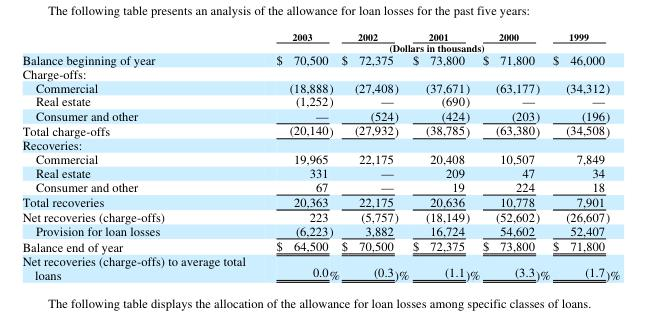table: (21, 29, 619, 282)
table column: (21, 29, 260, 282), (260, 29, 339, 282), (339, 29, 410, 282), (410, 29, 480, 282), (480, 29, 550, 282), (550, 29, 619, 282)
table column header: (21, 29, 619, 52)
table projected row header: (21, 65, 619, 79), (21, 137, 619, 151)
table row: (21, 253, 619, 282), (21, 237, 619, 253), (21, 107, 619, 122), (21, 122, 619, 137), (21, 193, 619, 208), (21, 222, 619, 237), (21, 65, 619, 79), (21, 79, 619, 93), (21, 93, 619, 107), (21, 137, 619, 151), (21, 151, 619, 165), (21, 165, 619, 179), (21, 179, 619, 193), (21, 208, 619, 222), (21, 52, 619, 65), (21, 29, 619, 41), (21, 41, 619, 52)
table spanning cell: (260, 41, 619, 52)
